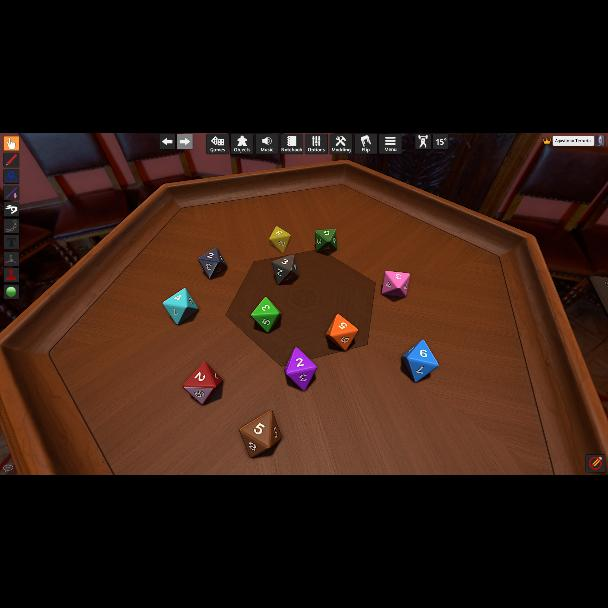d8: (240, 410, 282, 458), (183, 362, 223, 404), (404, 339, 439, 381), (284, 349, 316, 391), (163, 289, 199, 326), (326, 314, 356, 350), (251, 298, 281, 332), (196, 248, 226, 280), (272, 254, 298, 284), (382, 272, 408, 298), (269, 226, 291, 254), (314, 229, 336, 253)
